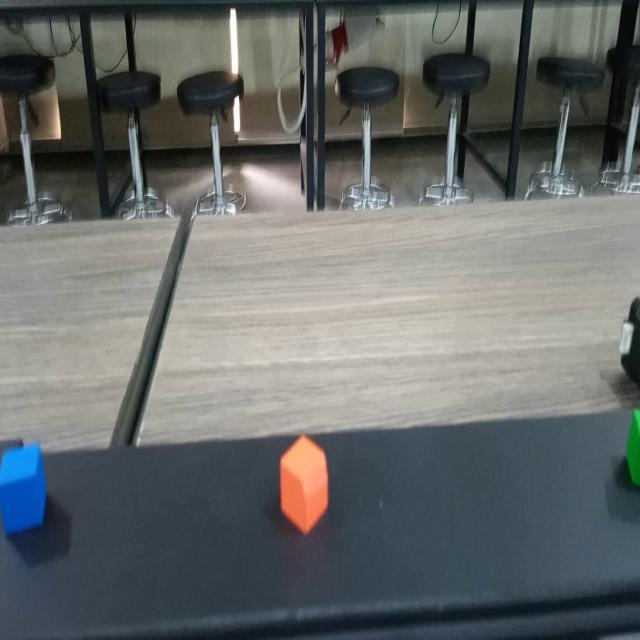cube: (0, 438, 55, 544)
